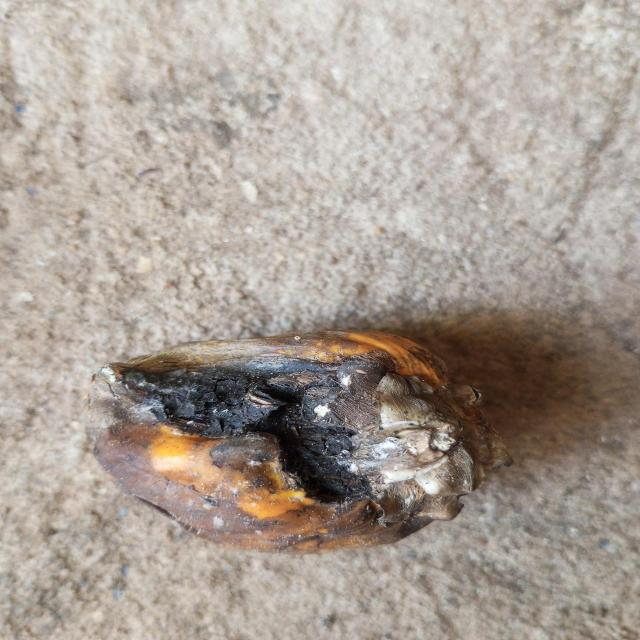damaged: (91, 330, 494, 556)
